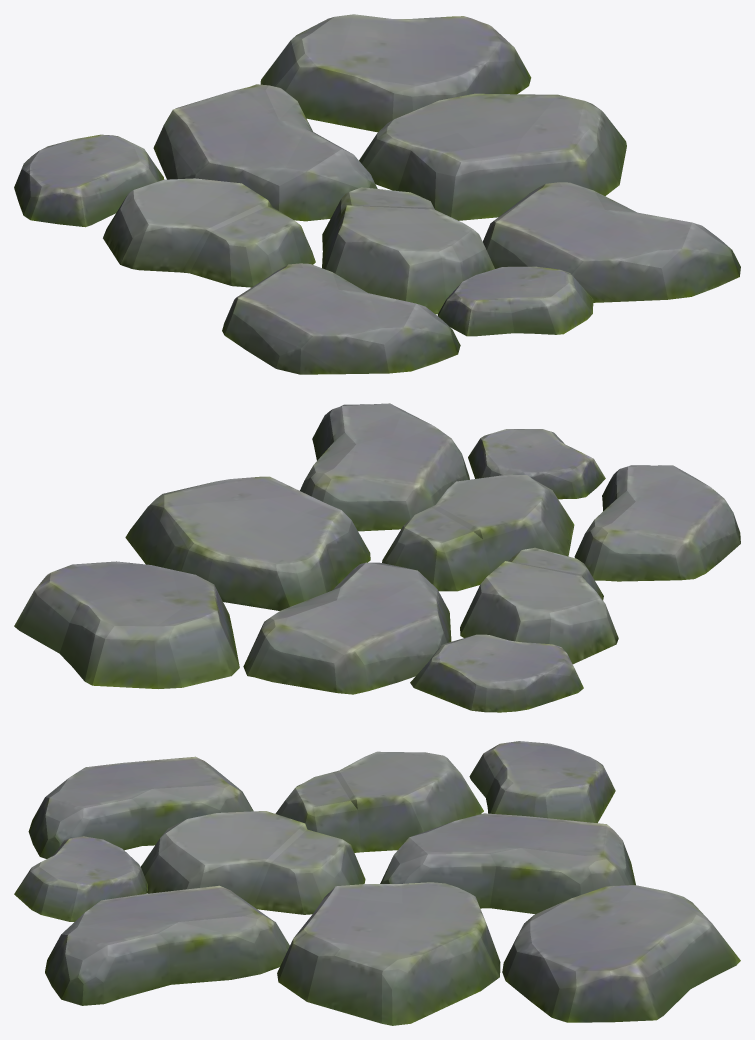
File: path-stone-2.glb
3 renders of one model, top to bottom at view 1: azimuth 30°, elevation 25°; view 2: azimuth 150°, elevation 25°; view 3: azimuth 270°, elevation 25°, orthographic. The views are drawn at different scales.
Visible parts, largest first — view 1: Cube_017_Retopology_013; view 2: Cube_017_Retopology_013; view 3: Cube_017_Retopology_013.
Boxes of the visible parts, <box> form: Cube_017_Retopology_013: <box>14,14,740,374</box>; Cube_017_Retopology_013: <box>14,403,740,712</box>; Cube_017_Retopology_013: <box>14,741,740,1025</box>.
Bounding box in the file's own units: 1.14 × 0.1046 × 1.35.
1 material, 1 textured.
